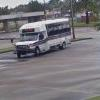Bus: (17, 17, 75, 54)
